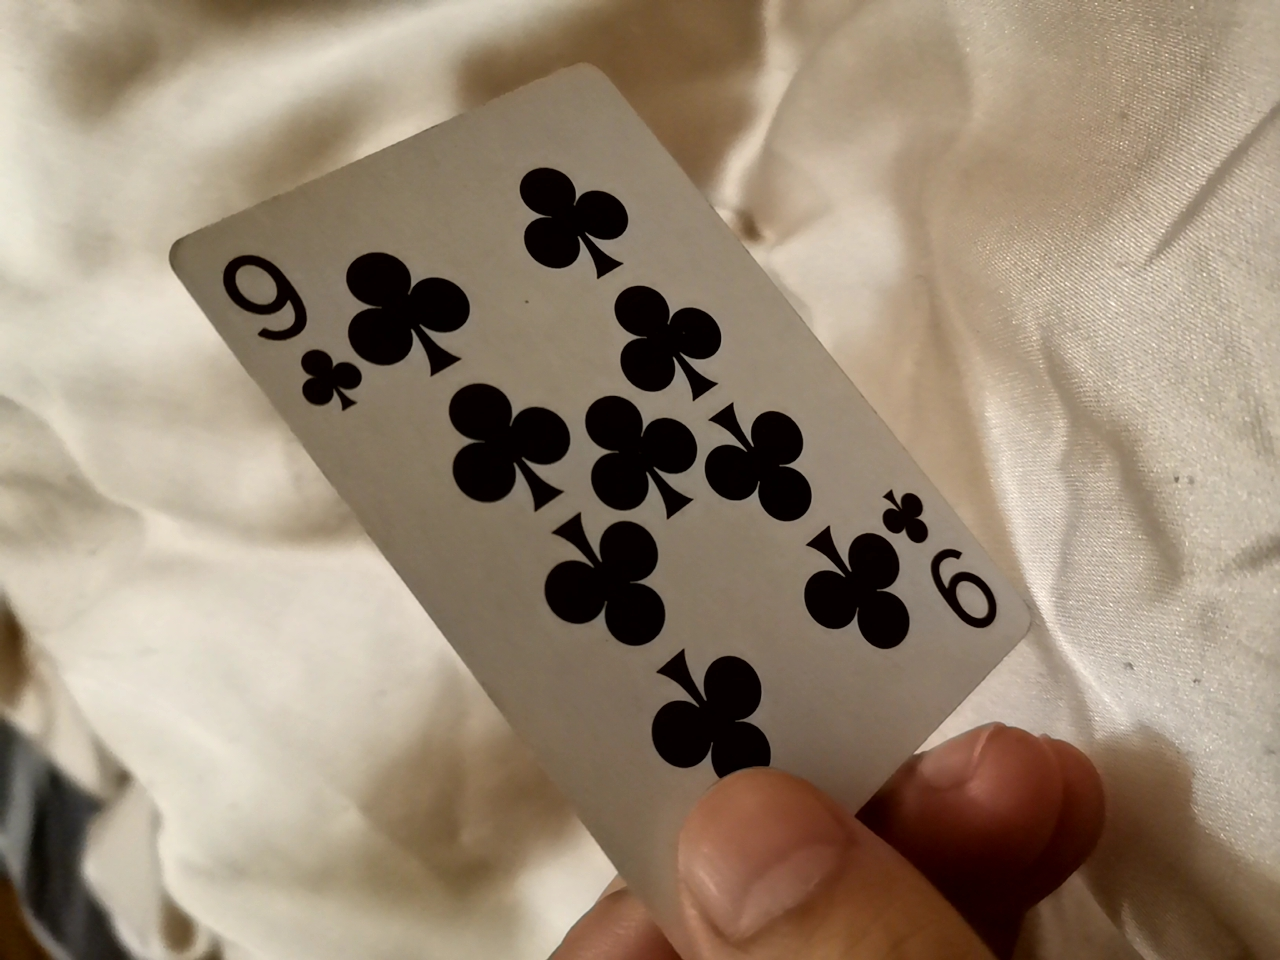mh 9: (143, 56, 1072, 876)
